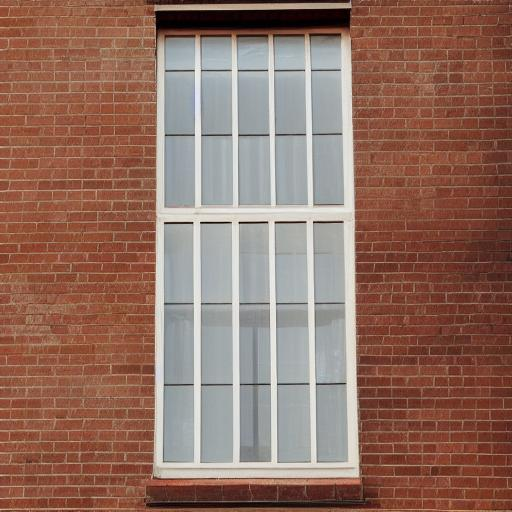Window: (145, 2, 365, 505)
